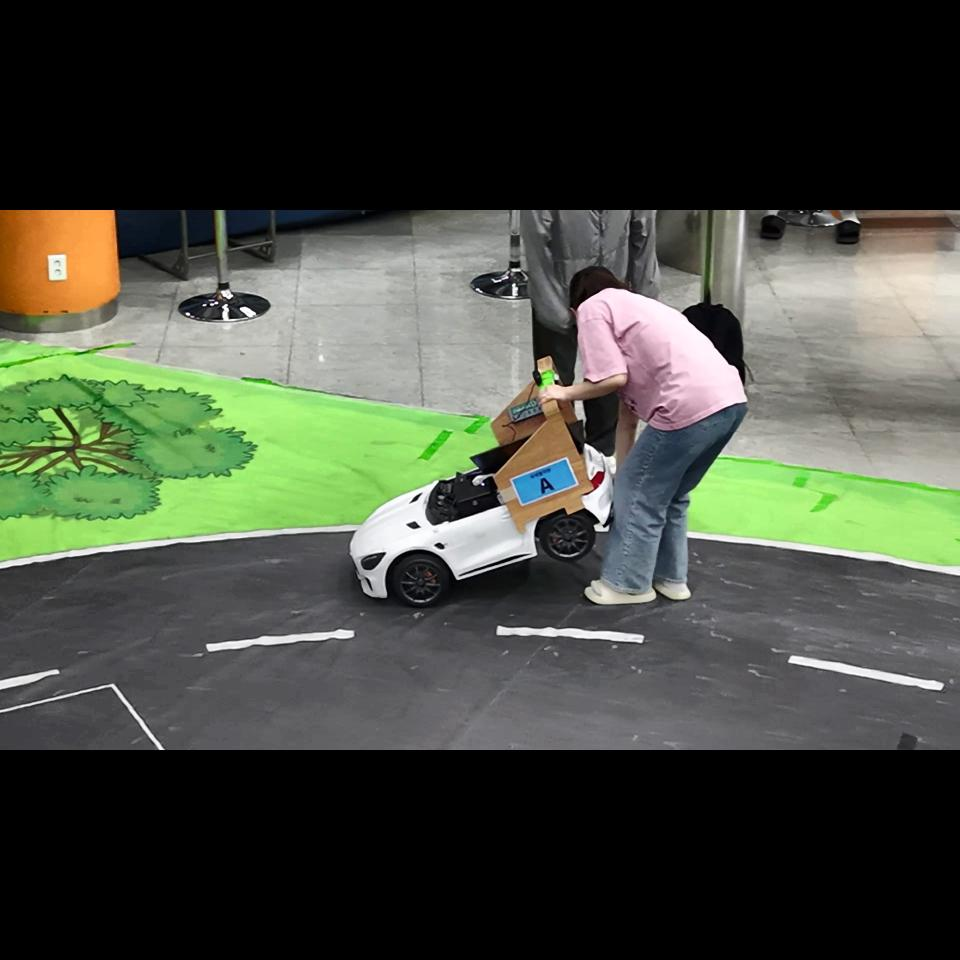broken_line: (787, 655, 945, 691), (205, 629, 355, 652), (496, 625, 645, 644), (0, 669, 60, 690)
